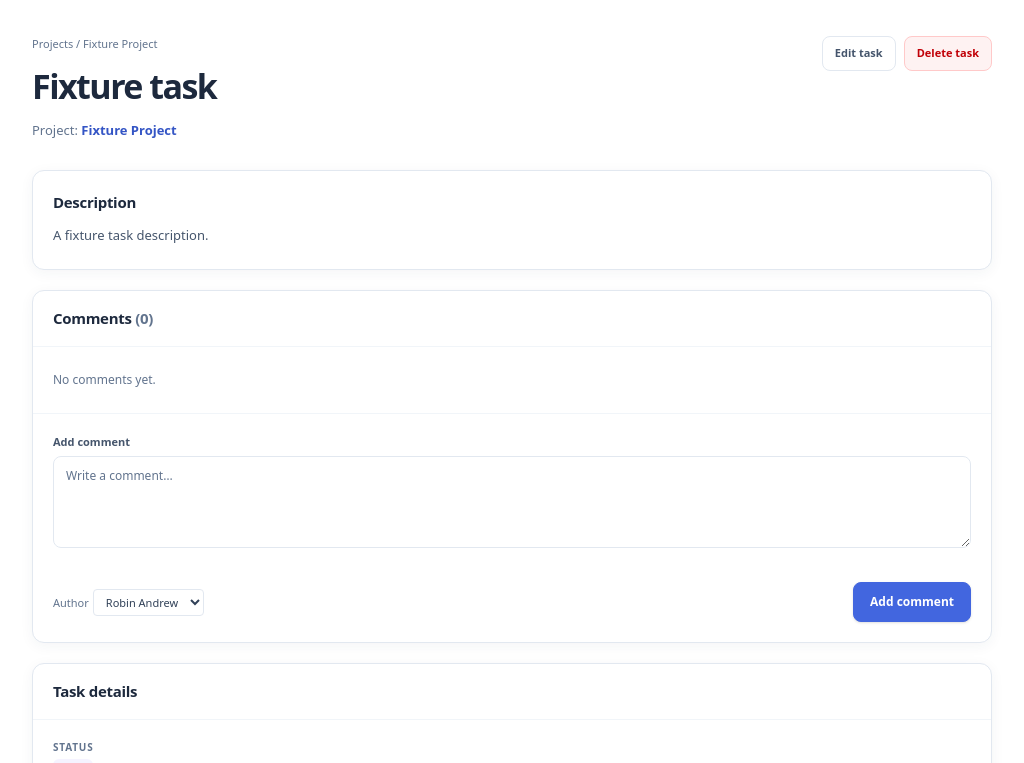
Test: TaskDetail › reports why a comment could not be added
Click the button "Add comment" at (912, 602), box [853,582,971,622]
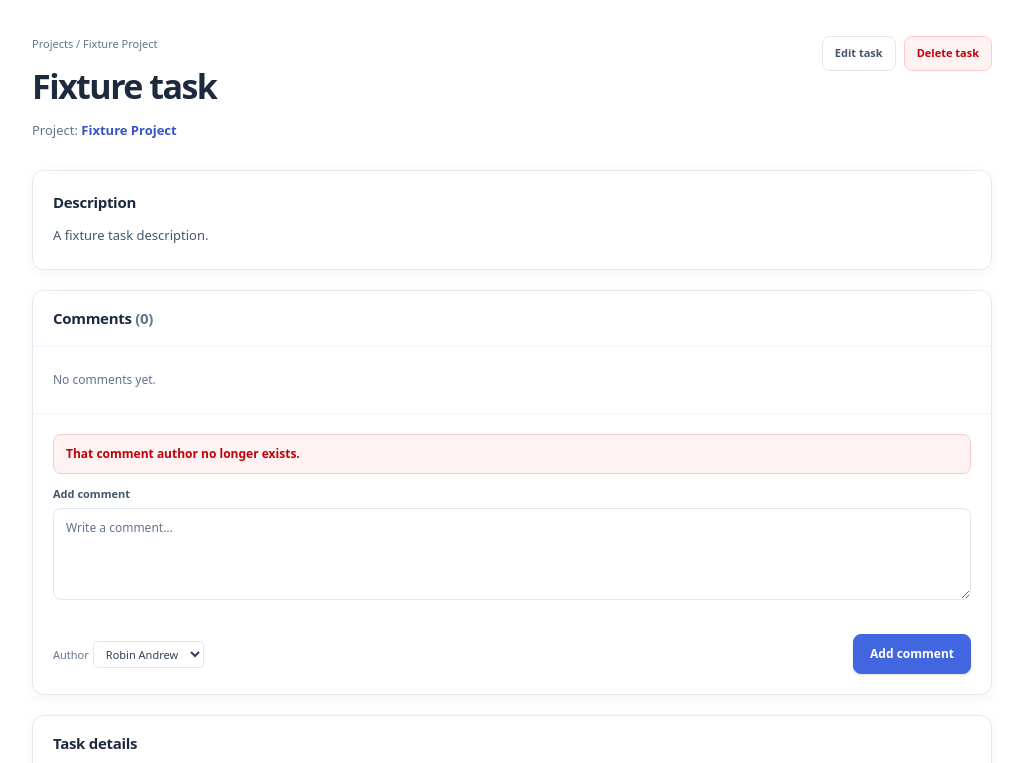
Result: the message reads "That comment author no longer exists." at [66,444,300,462]
